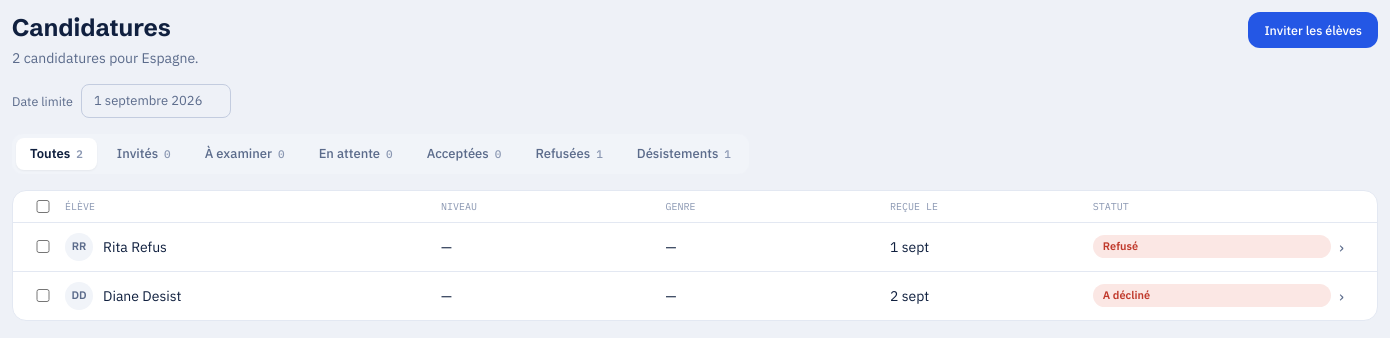
CandidaturesView › keeps declined out of the Rejected tab and gives it its own
Click the button "Refusées 1" at (569, 154), box [521,138,617,170]
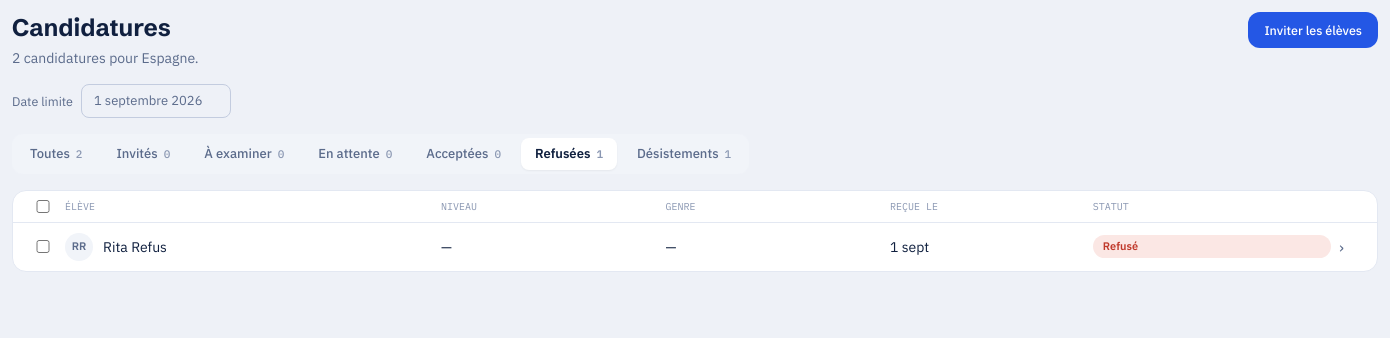
Expected: the text "Rita Refus" is shown, [103,236,167,256]
Expected: the text "Diane Desist" is gone
Click the button "Désistements 1" at (684, 154), box [623,138,745,170]
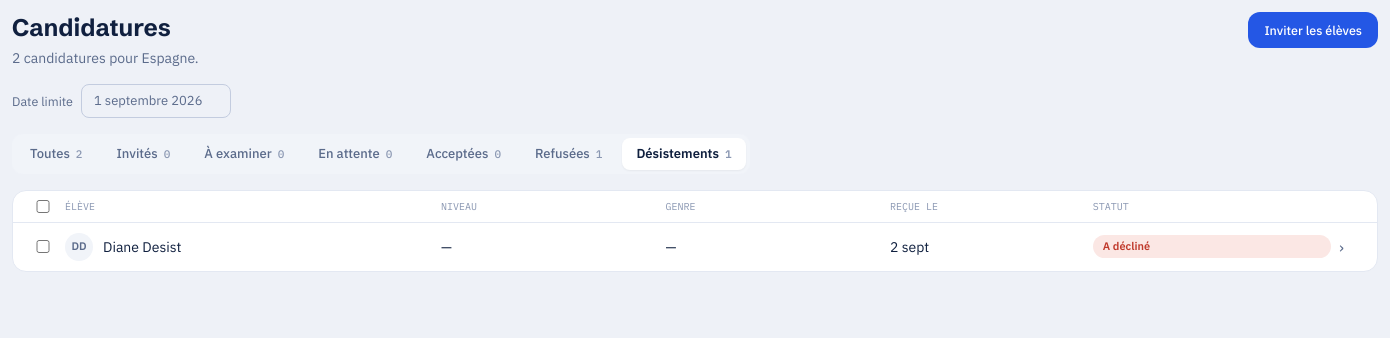
Expected: the text "Diane Desist" is shown, [103,236,181,256]
Expected: the text "Rita Refus" is gone
